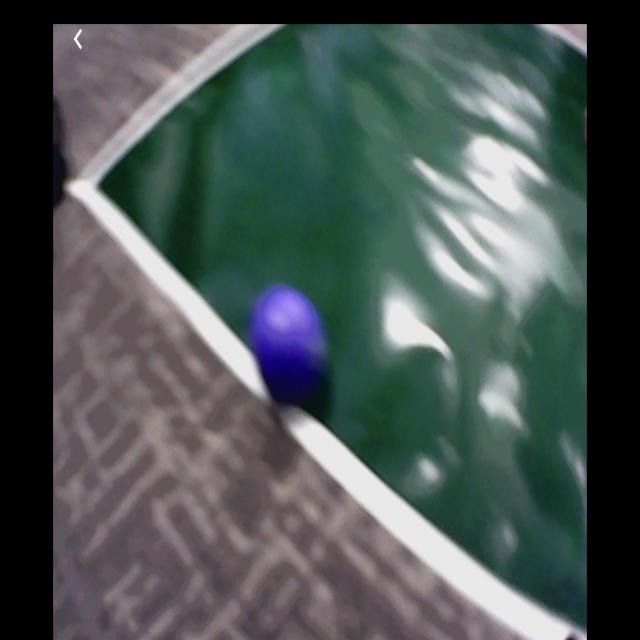ball: (253, 288, 324, 396)
